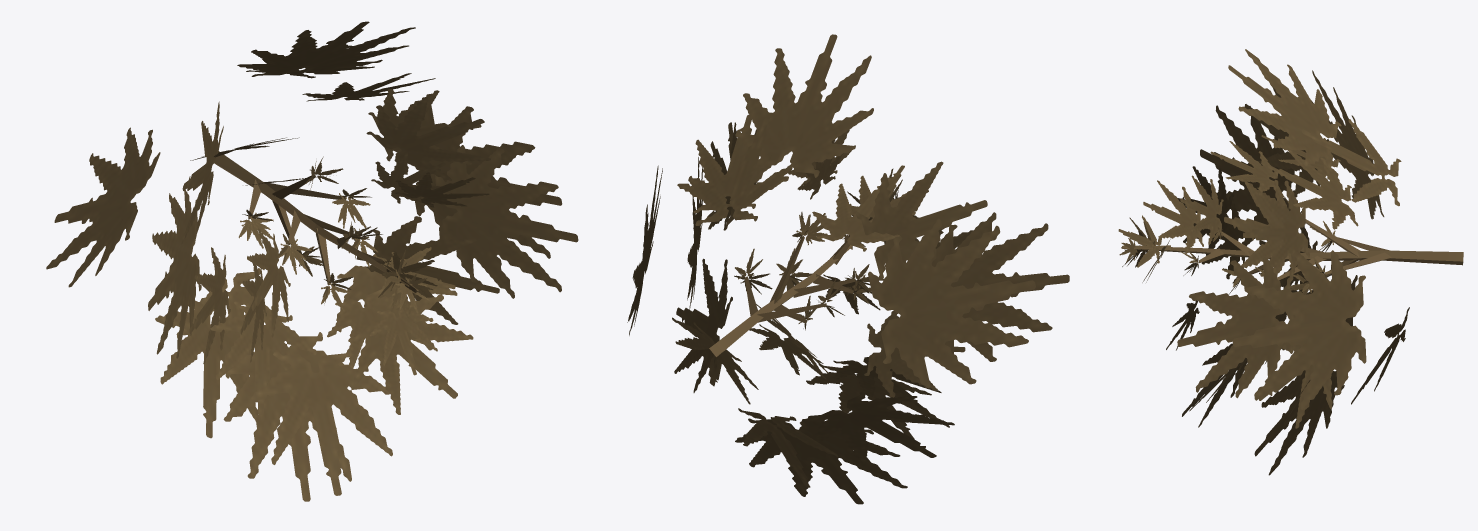
The model's file is p_landrace_vegetative_c3_cards.obj.
The picture shows the model from 3 angles, left to right: view 1: azimuth 30°, elevation 25°; view 2: azimuth 150°, elevation 25°; view 3: azimuth 270°, elevation 25°; orthographic projection. The views are drawn at different scales.
Size of the model in its own units: 1.38 by 1.35 by 0.952.
Materials: 1 (1 with a texture image).
